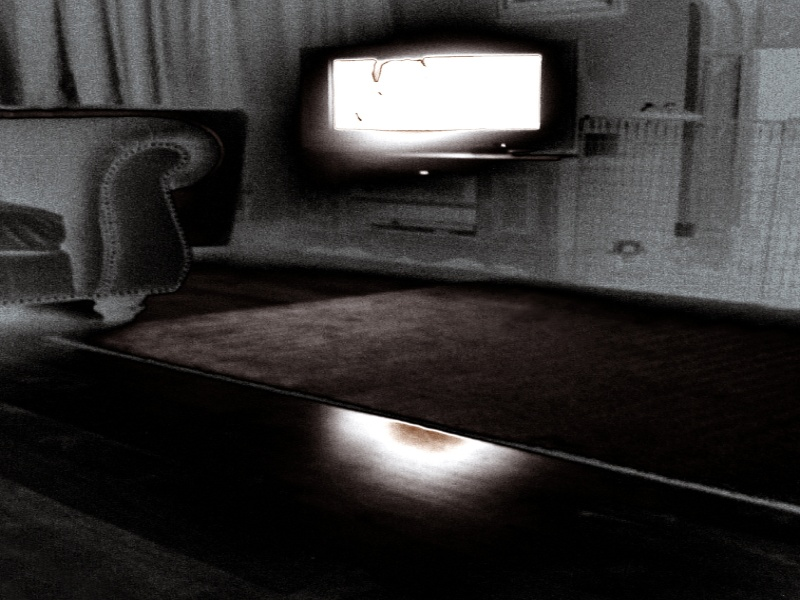couch: (4, 107, 222, 343)
tv: (291, 31, 590, 171)
